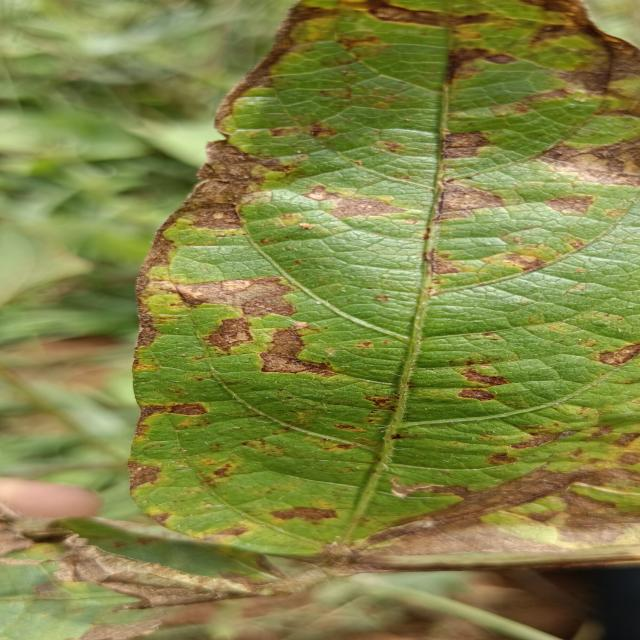Black gram_leaf spot: (119, 0, 640, 574)
